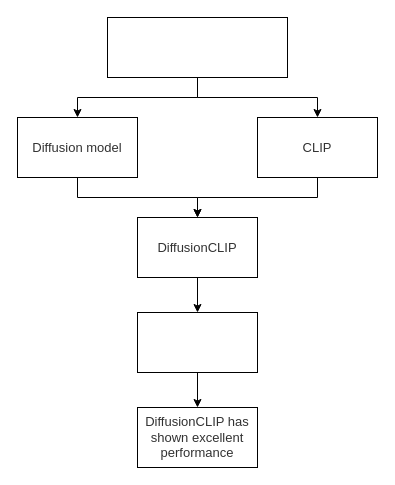
This 395x485 diagram has some shape labels left out. Here are the shapes that lost their labels. From the top down, the centre of each, then its label:
At (x=197, y=47): "The limited GAN inversion performance.".
At (x=197, y=342): "Comparison and Evaluation".
